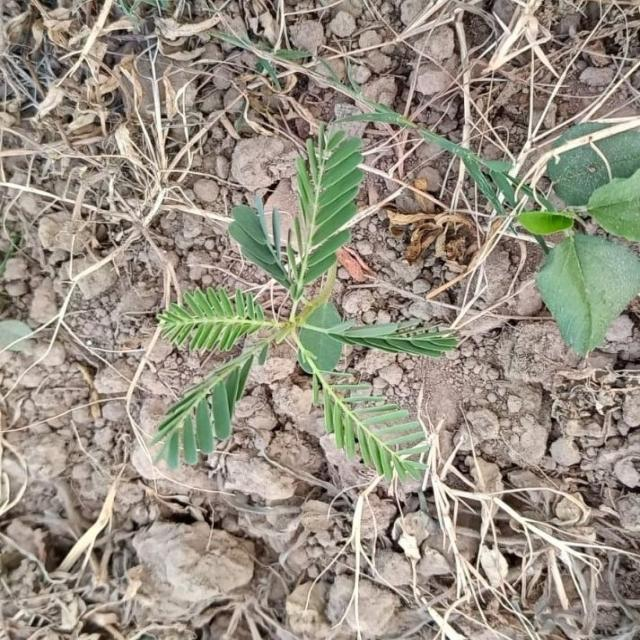plant: (153, 126, 456, 479)
